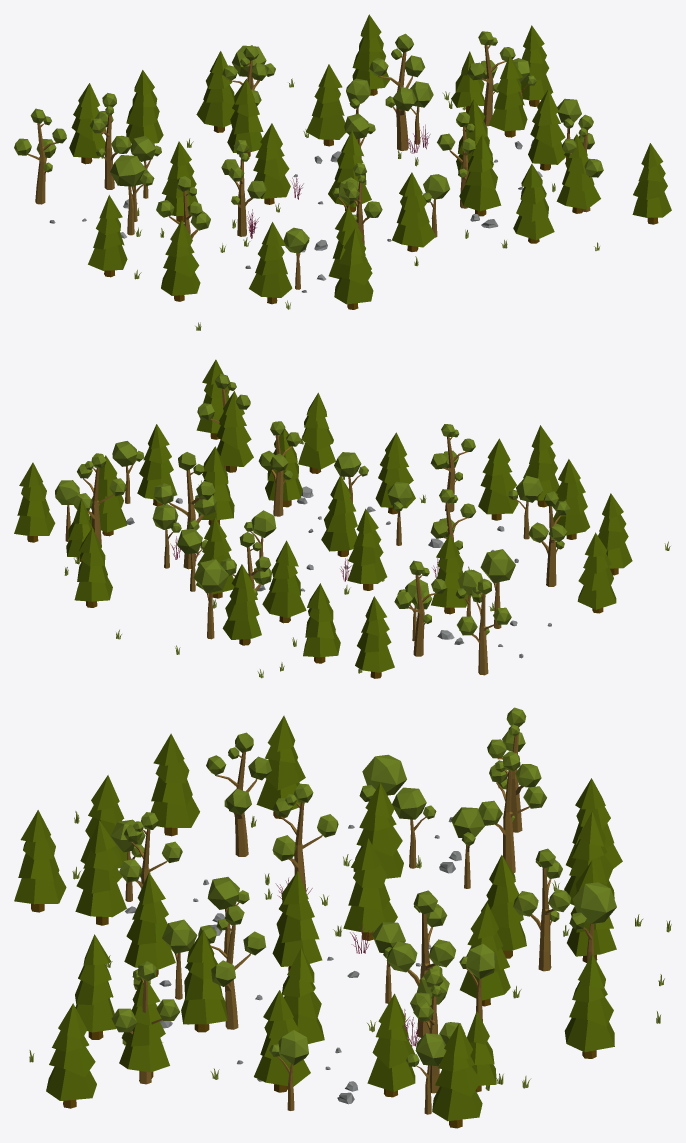
Rendered from precontact tree bunch.gltf.
3 views of the same model, one above another, from view 1: azimuth 30°, elevation 25°; view 2: azimuth 150°, elevation 25°; view 3: azimuth 270°, elevation 25° (orthographic). The views are drawn at different scales.
Visible parts, largest first — view 1: precontact tree bunch; view 2: precontact tree bunch; view 3: precontact tree bunch.
Part boxes in pixels (x1,y1,x2,y2): precontact tree bunch: [14, 14, 671, 330]; precontact tree bunch: [14, 359, 670, 678]; precontact tree bunch: [14, 707, 671, 1128].
Size of the model in its own units: 119 by 24.65 by 99.95.
